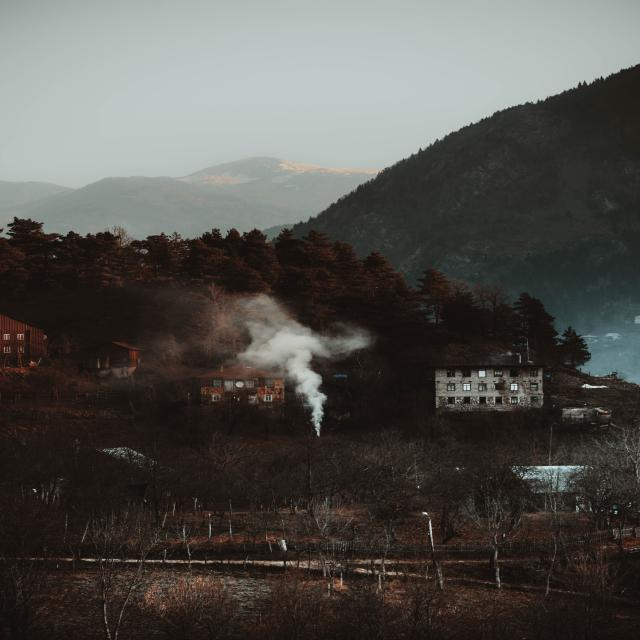Smoke: (206, 294, 375, 441)
